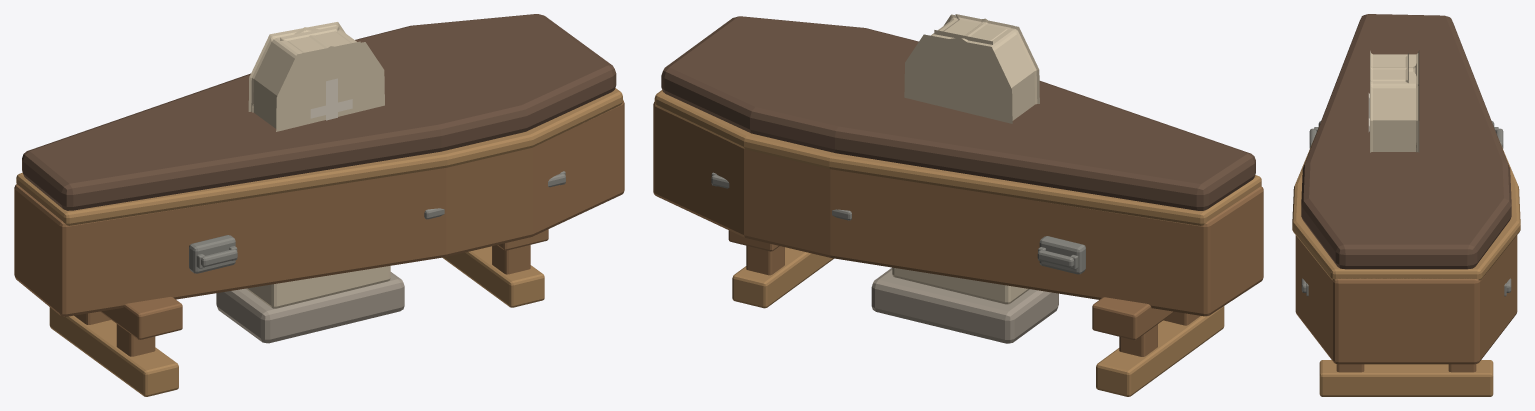
Rendered from frontier-graveyard.glb.
3 renders of one model, left to right at view 1: azimuth 30°, elevation 25°; view 2: azimuth 150°, elevation 25°; view 3: azimuth 270°, elevation 25°, orthographic. The views are drawn at different scales.
Parts seen in each view (by area): view 1: Smoked walnut cabinet.001, Blackened walnut lid.001, Pegged white oak cut edge.001, Raked sandstone face.002, Weathered sandstone edges.002, Silvery weathered iron hardware.001, Raked sandstone face.003, Chalk sandstone lettering.001, Raked sandstone face.001; view 2: Smoked walnut cabinet.001, Blackened walnut lid.001, Pegged white oak cut edge.001, Raked sandstone face.002, Weathered sandstone edges.002, Silvery weathered iron hardware.001, Raked sandstone face.003; view 3: Blackened walnut lid.001, Smoked walnut cabinet.001, Pegged white oak cut edge.001, Raked sandstone face.002, Raked sandstone face.003, Silvery weathered iron hardware.001.
Part boxes in pixels (bbox=[...]): Smoked walnut cabinet.001: bbox=[14, 100, 624, 356]; Blackened walnut lid.001: bbox=[22, 14, 616, 210]; Pegged white oak cut edge.001: bbox=[16, 88, 622, 396]; Raked sandstone face.002: bbox=[246, 22, 390, 308]; Weathered sandstone edges.002: bbox=[216, 272, 404, 343]; Silvery weathered iron hardware.001: bbox=[189, 171, 565, 273]; Raked sandstone face.003: bbox=[280, 25, 360, 116]; Chalk sandstone lettering.001: bbox=[310, 78, 352, 120]; Raked sandstone face.001: bbox=[252, 27, 383, 130]; Smoked walnut cabinet.001: bbox=[653, 102, 1263, 356]; Blackened walnut lid.001: bbox=[661, 16, 1255, 210]; Pegged white oak cut edge.001: bbox=[654, 90, 1261, 396]; Raked sandstone face.002: bbox=[892, 14, 1039, 304]; Weathered sandstone edges.002: bbox=[871, 268, 1058, 343]; Silvery weathered iron hardware.001: bbox=[711, 172, 1085, 274]; Raked sandstone face.003: bbox=[934, 14, 1013, 44]; Blackened walnut lid.001: bbox=[1301, 14, 1511, 269]; Smoked walnut cabinet.001: bbox=[1295, 235, 1517, 372]; Pegged white oak cut edge.001: bbox=[1292, 138, 1520, 396]; Raked sandstone face.002: bbox=[1370, 50, 1419, 152]; Raked sandstone face.003: bbox=[1370, 52, 1408, 82]; Silvery weathered iron hardware.001: bbox=[1301, 121, 1511, 296].
Size of the model in its own units: 2.5 by 1.21 by 0.9991.
